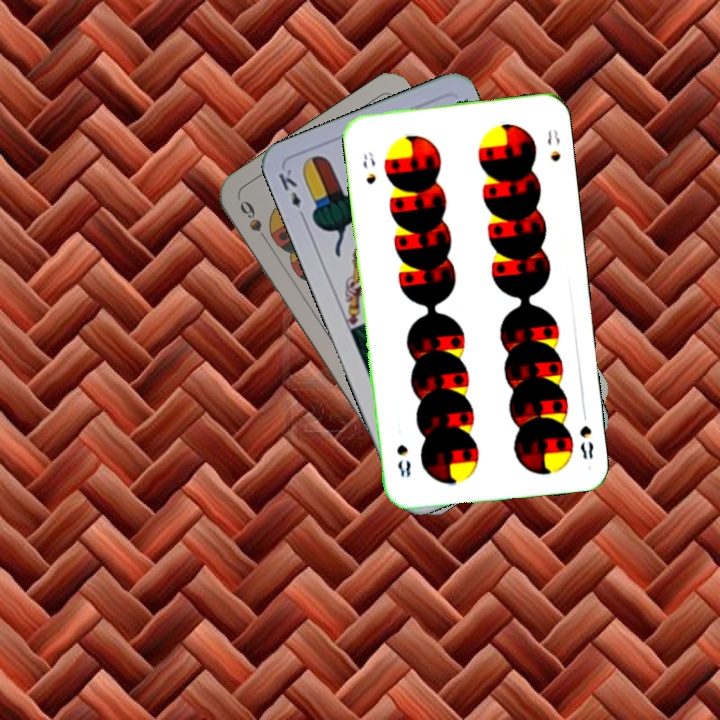EK: (274, 164, 309, 223)
S8: (576, 405, 596, 462), (358, 147, 378, 187)
S9: (235, 196, 274, 249)
